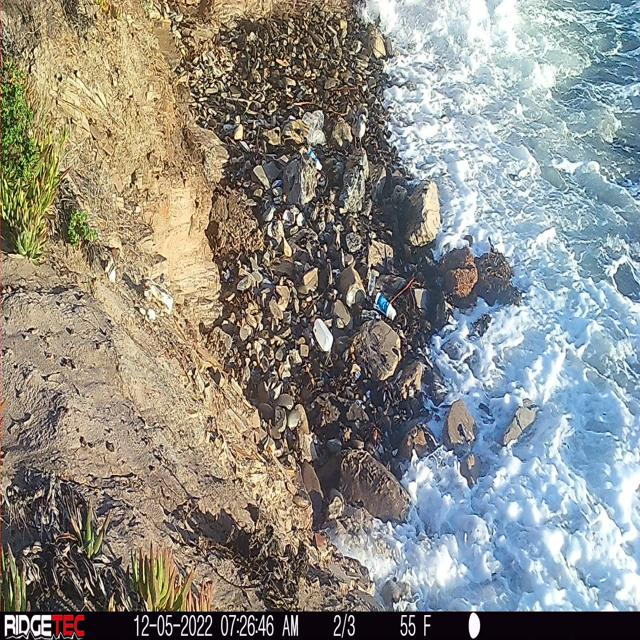bird: (346, 107, 368, 153)
